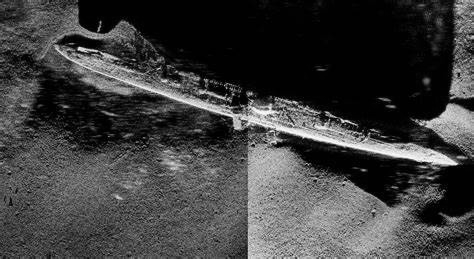ship: (55, 31, 459, 171)
